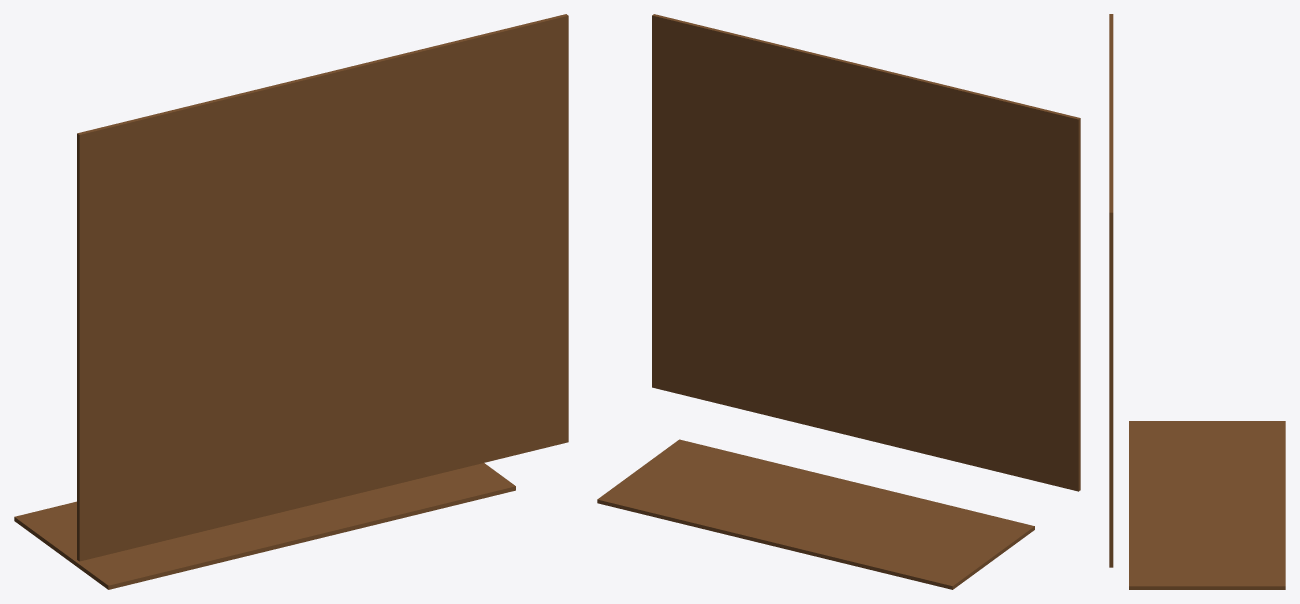
File: fault_terminal_heat.glb
The picture shows the model from 3 angles, left to right: view 1: azimuth 30°, elevation 25°; view 2: azimuth 150°, elevation 25°; view 3: azimuth 270°, elevation 25°; orthographic projection. The views are drawn at different scales.
Visible parts, largest first — view 1: fault_terminal_heat; view 2: fault_terminal_heat; view 3: fault_terminal_heat.
Part boxes in pixels (left/top/right/bottom): fault_terminal_heat: left=14, top=14, right=568, bottom=589; fault_terminal_heat: left=597, top=14, right=1080, bottom=589; fault_terminal_heat: left=1109, top=14, right=1285, bottom=589.
Bounding box in the file's own units: 0.6 × 0.555 × 0.225.
